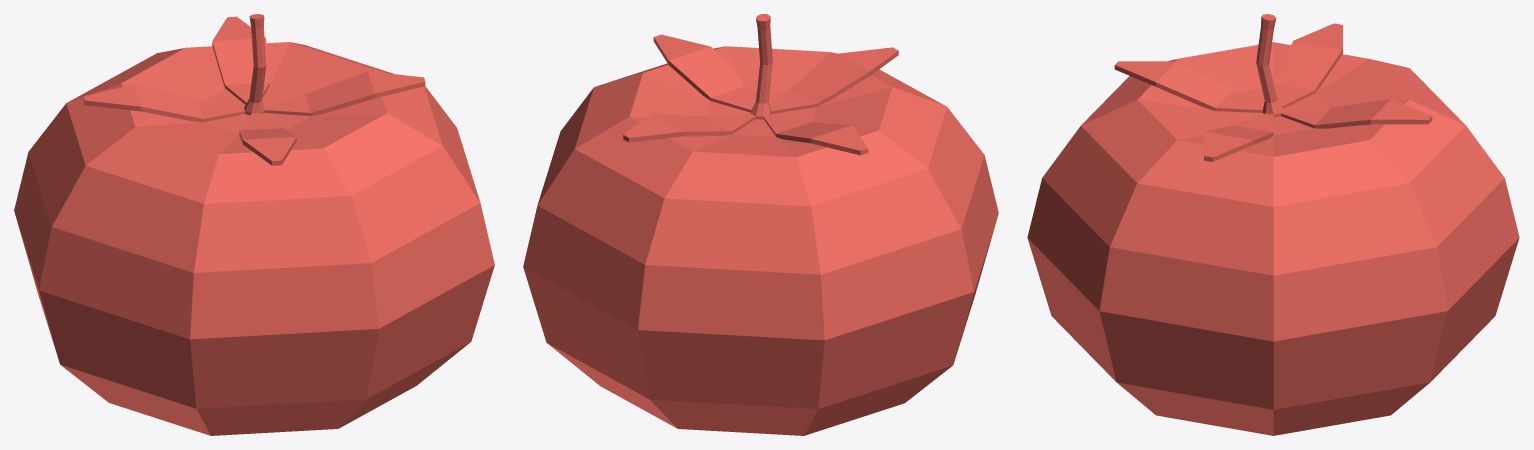
File: fruit_seed.glb
3 renders of one model, left to right at view 1: azimuth 30°, elevation 25°; view 2: azimuth 150°, elevation 25°; view 3: azimuth 270°, elevation 25°, orthographic.
Parts seen in each view (by area): view 1: Tomato_Circle.024; view 2: Tomato_Circle.024; view 3: Tomato_Circle.024.
Boxes of the visible parts, bbox=[...] form: Tomato_Circle.024: bbox=[14, 14, 494, 435]; Tomato_Circle.024: bbox=[523, 14, 998, 435]; Tomato_Circle.024: bbox=[1027, 14, 1519, 435].
Size of the model in its own units: 1.8 by 1.43 by 1.8.
